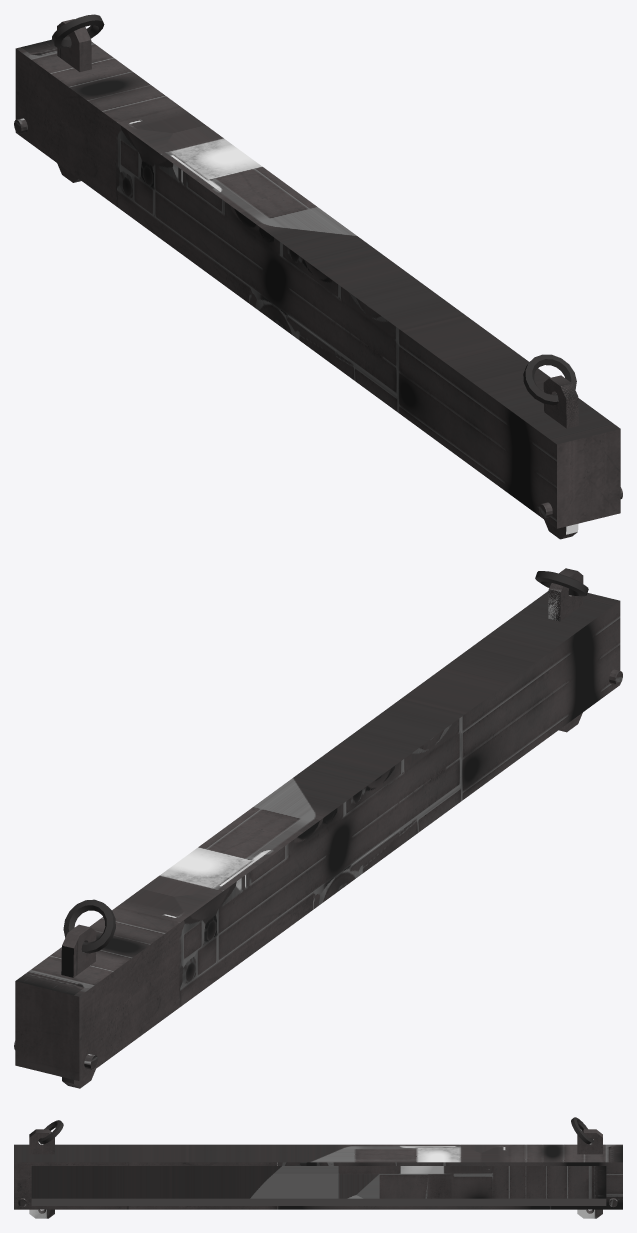
Rendered from travers2_itog.fbx.
3 views of the same model, one above another, from view 1: azimuth 30°, elevation 25°; view 2: azimuth 150°, elevation 25°; view 3: azimuth 270°, elevation 25° (orthographic). The views are drawn at different scales.
Visible parts, largest first — view 1: Cube.011; view 2: Cube.011; view 3: Cube.011.
Boxes of the visible parts, <box> form: Cube.011: <box>14,14,622,539</box>; Cube.011: <box>14,568,622,1088</box>; Cube.011: <box>14,1117,622,1218</box>.
Bounding box in the file's own units: 20.94 × 45.15 × 256.
